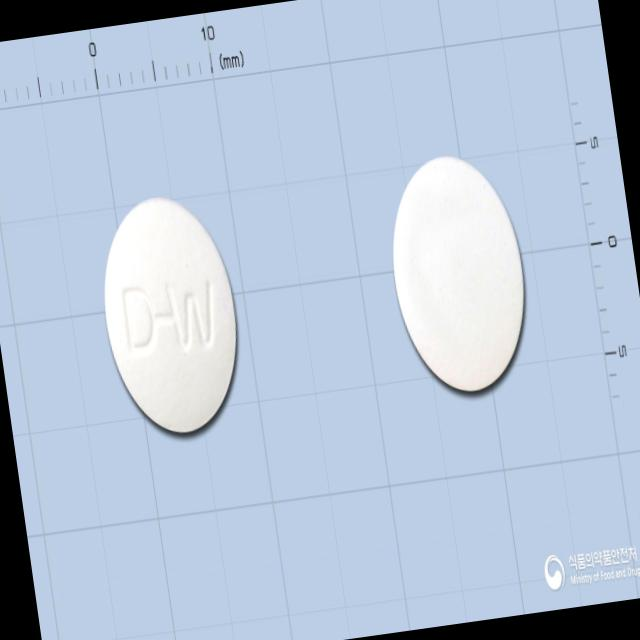Cipoxacin: (374, 140, 546, 407), (87, 183, 255, 448)
